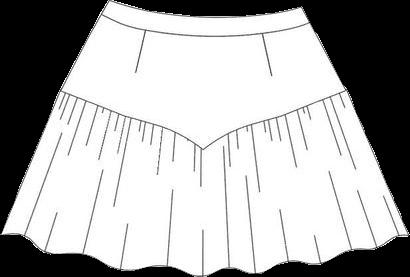Hemline: (0, 232, 409, 276)
Waistline: (61, 89, 347, 150), (101, 12, 310, 36), (107, 0, 301, 18)
